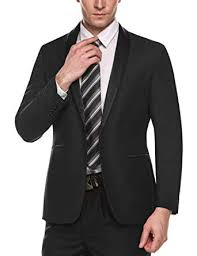F_M_suit jacket: (13, 15, 187, 234)
F_tie: (79, 36, 110, 182)
